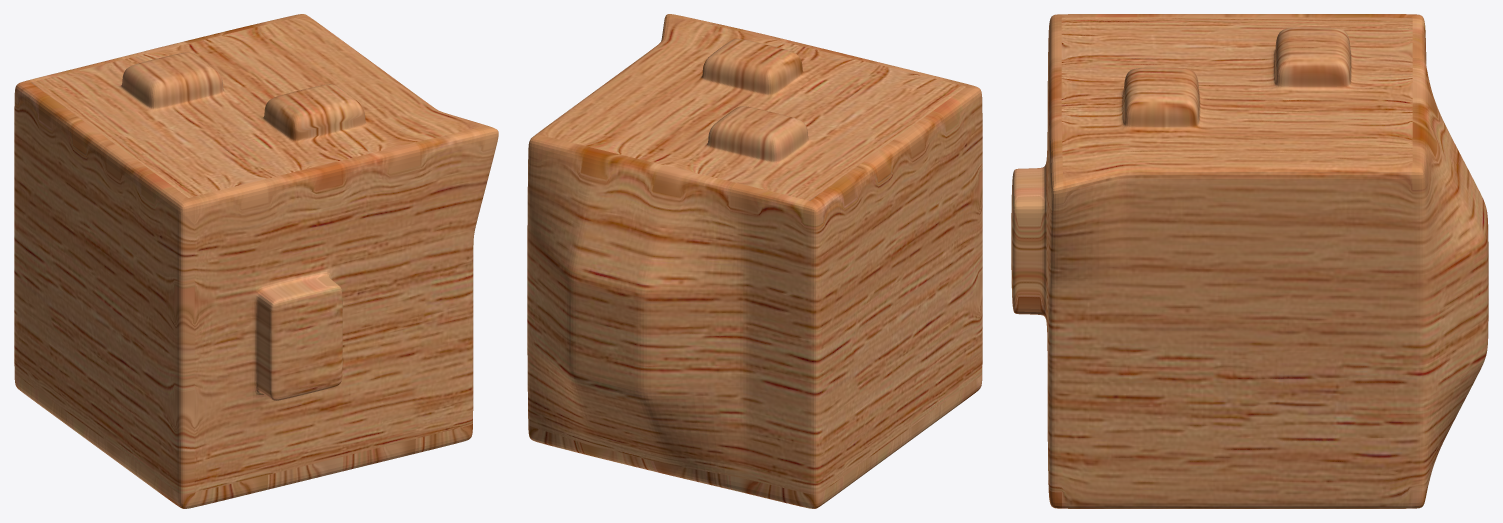
Rendered from RandomShape.fbx.
The picture shows the model from 3 angles, left to right: view 1: azimuth 30°, elevation 25°; view 2: azimuth 150°, elevation 25°; view 3: azimuth 270°, elevation 25°; orthographic projection. The views are drawn at different scales.
Parts seen in each view (by area): view 1: Cube; view 2: Cube; view 3: Cube.
Boxes of the visible parts, box(x1,y1,x2,y2) form: Cube: box(14, 14, 498, 508); Cube: box(527, 14, 982, 508); Cube: box(1011, 14, 1488, 508).
Size of the model in its own units: 70.22 by 70.12 by 81.62.
1 material, 1 textured.
